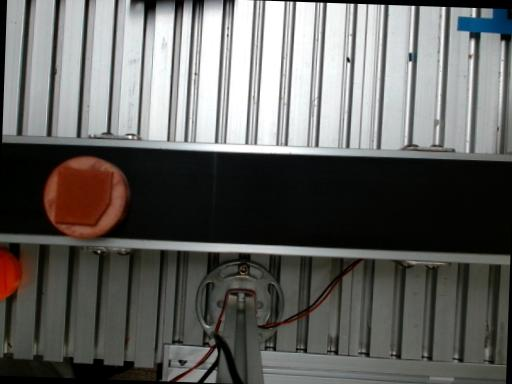Brown_Waper: (43, 156, 129, 237)
Not_Square: (53, 166, 113, 225)
